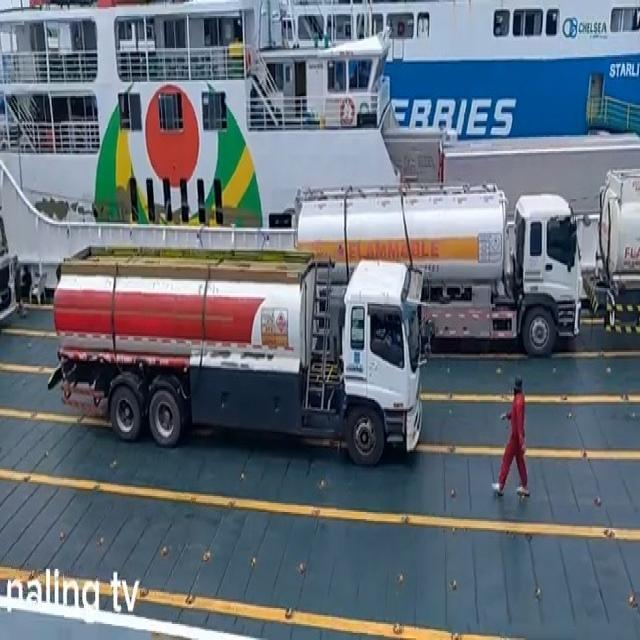truck: (45, 241, 428, 463), (294, 186, 586, 358), (591, 160, 640, 332)
